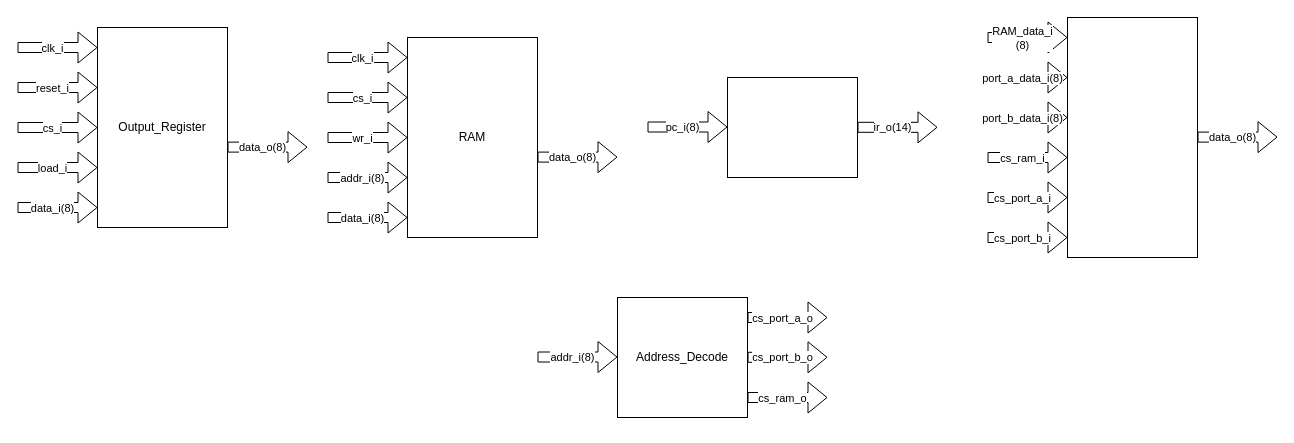
Image size: 1294x443. Some labels were removed from this diagram. The shapes that lost their labels are listed below. From the top down, each one's centre as x and y in pixels, then its label:
point 792,127: ROM
point 1132,137: Data_Multiplexer
